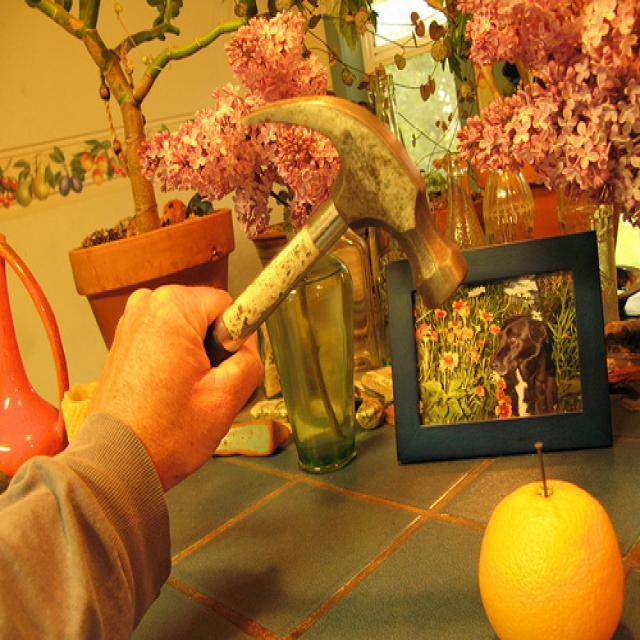hammer: (133, 84, 476, 438)
